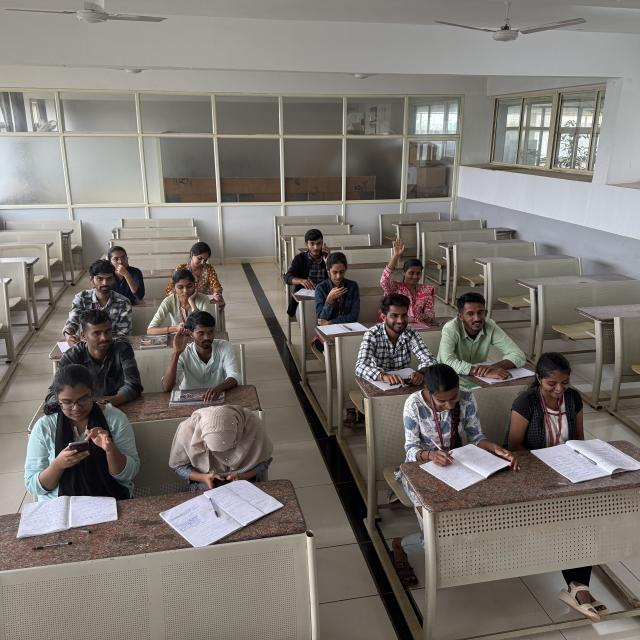Hand Rising: (168, 315, 236, 392), (379, 237, 438, 310)
Reading: (517, 350, 612, 464)
Using Phone: (32, 368, 143, 494), (174, 400, 276, 486), (151, 272, 215, 338), (312, 252, 363, 318), (295, 228, 337, 282)
Writing: (402, 369, 498, 465)
